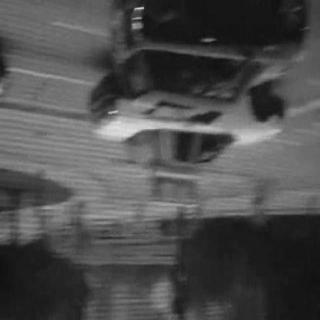other: (124, 6, 146, 48), (98, 96, 118, 134)
